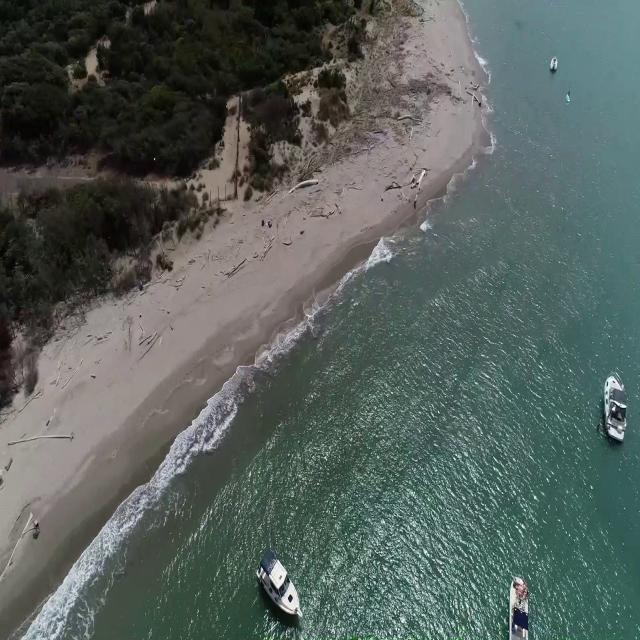boat: (254, 546, 305, 624), (509, 571, 532, 640), (604, 372, 624, 446), (550, 55, 559, 72)
person: (32, 516, 40, 536), (567, 85, 573, 97)
surfboard: (564, 94, 572, 106)
wood: (0, 510, 33, 593), (379, 167, 426, 212), (8, 428, 63, 455)
